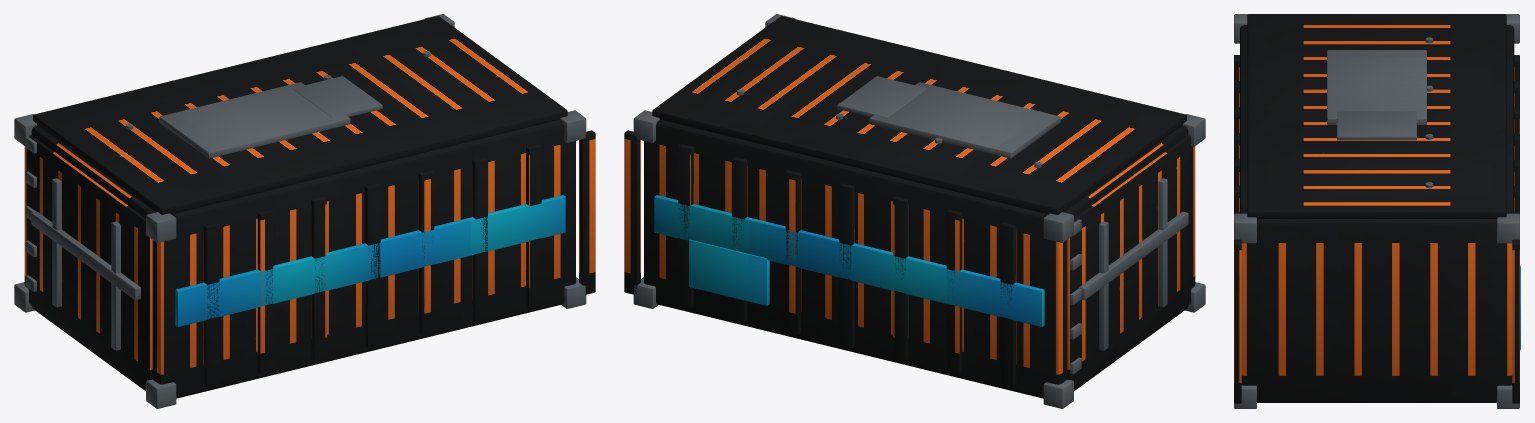
Rendered from pod_cargo_container.glb.
3 renders of one model, left to right at view 1: azimuth 30°, elevation 25°; view 2: azimuth 150°, elevation 25°; view 3: azimuth 270°, elevation 25°, orthographic.
Parts seen in each view (by area): view 1: Cargo_Shell, pod_cargo_container_Material_Mechanical_Merged, Cargo_ID_Plate; view 2: Cargo_Shell, Cargo_ID_Plate, pod_cargo_container_Material_Mechanical_Merged; view 3: Cargo_Shell, pod_cargo_container_Material_Mechanical_Merged.
Boxes of the visible parts, x1,y1,x2,y2 form: Cargo_Shell: (24,16,595,398); pod_cargo_container_Material_Mechanical_Merged: (14,14,586,408); Cargo_ID_Plate: (175,195,565,326); Cargo_Shell: (624,16,1195,398); Cargo_ID_Plate: (654,195,1044,326); pod_cargo_container_Material_Mechanical_Merged: (633,14,1205,408); Cargo_Shell: (1234,14,1519,403); pod_cargo_container_Material_Mechanical_Merged: (1234,14,1519,408).
Bounding box in the file's own units: 5.34 × 2.31 × 3.01.
Materials: 3 (3 with a texture image).
